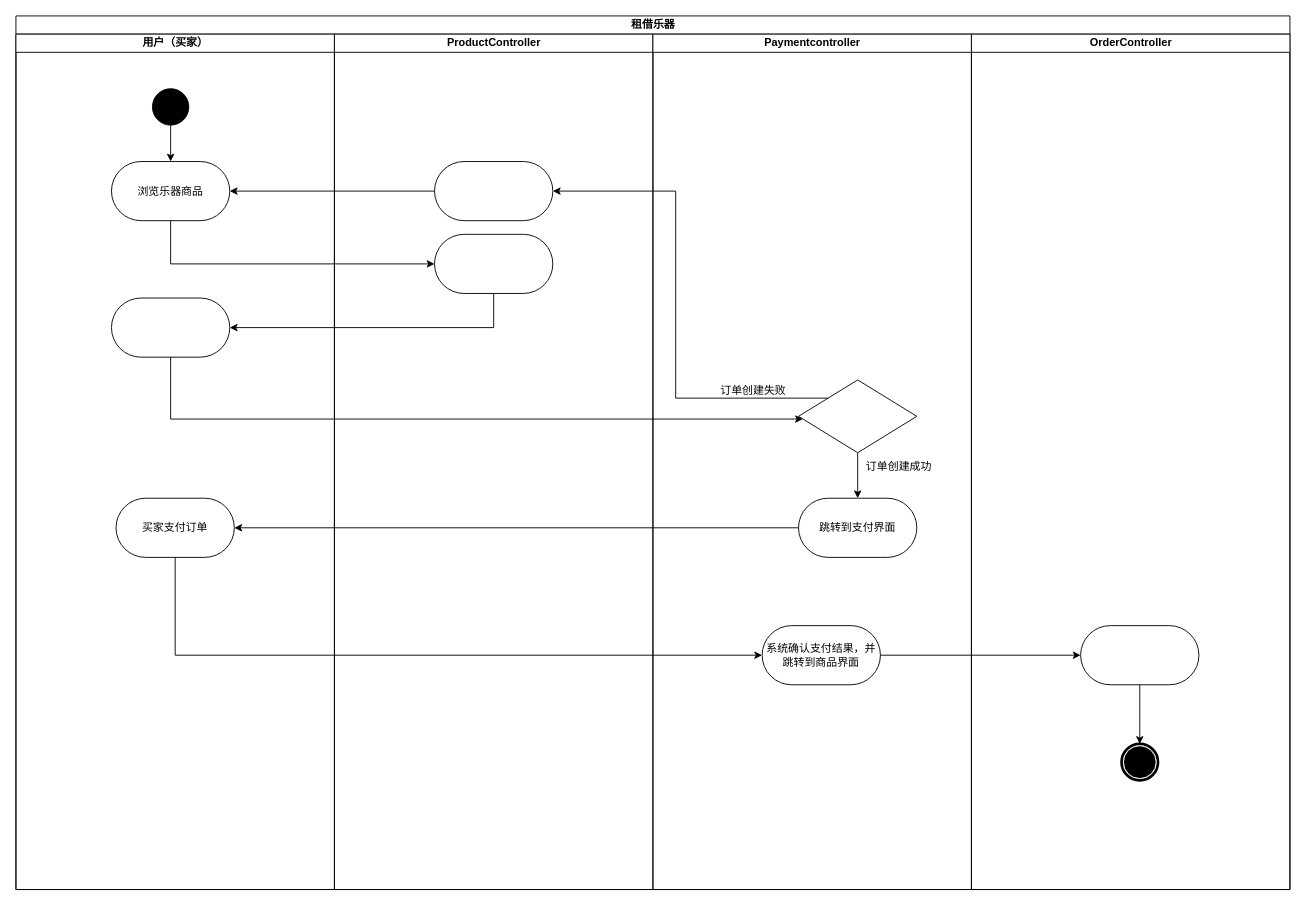
The diagram is 1306 pixels wide and 905 high, and some of its shapes have lost their labels. Here are the shapes that lost their labels. From the top down, the centre of each, then its label:
[493,191]: 系统返回订单创建失败信息
[493,263]: 系统整理出的商品列表
[170,327]: 买家发起租借订单
[857,416]: 系统返回订单创建结果
[1139,655]: 系统生成租借订单
